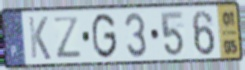3: (123, 11, 149, 60)
5: (159, 9, 187, 58)
6: (191, 9, 217, 57)
G: (91, 11, 118, 61)
K: (27, 15, 53, 62)
Z: (51, 15, 83, 60)
